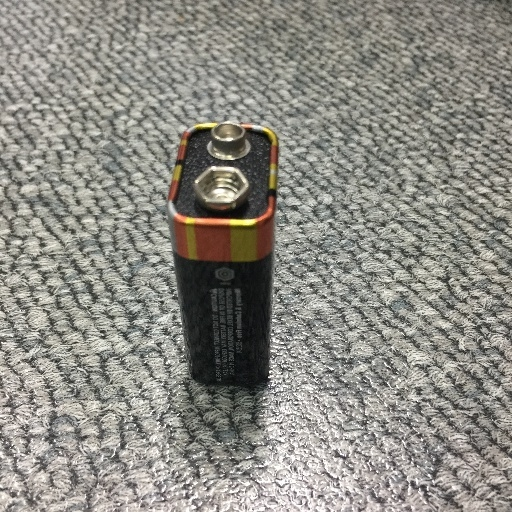Battery_3: (150, 108, 314, 413)
